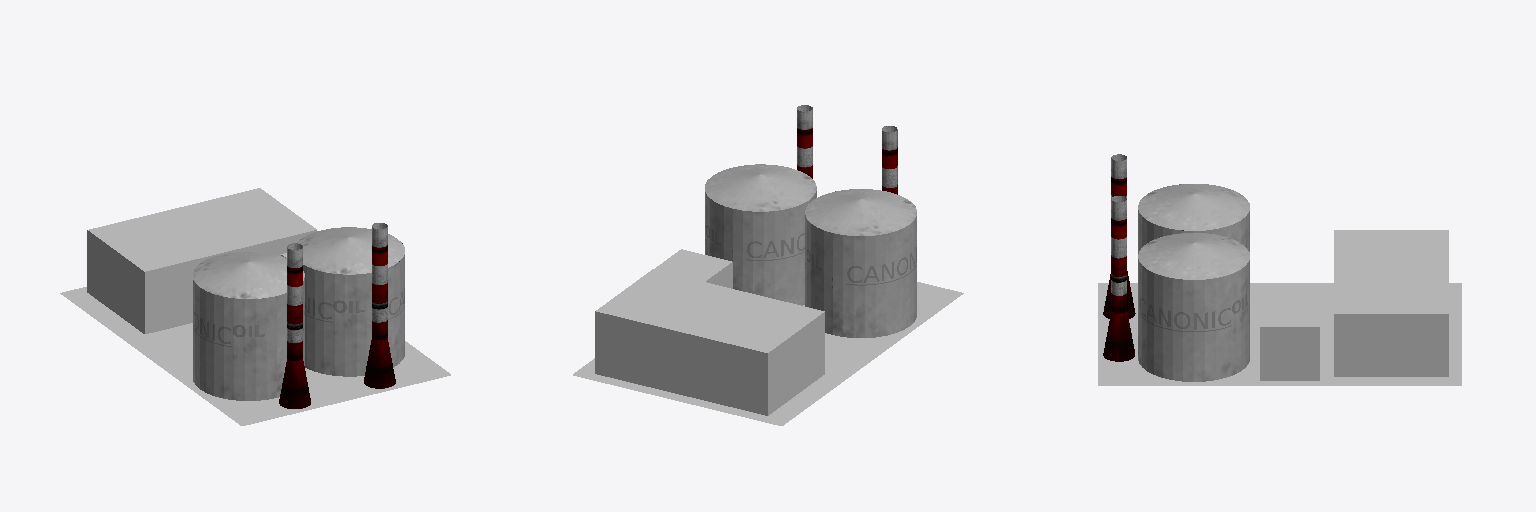
3 renders of one model, left to right at view 1: azimuth 30°, elevation 25°; view 2: azimuth 150°, elevation 25°; view 3: azimuth 270°, elevation 25°, orthographic.
Parts seen in each view (by area): view 1: Cube_Cube.001, Cylinder.000_Cylinder.004, Cylinder.003, Plane, Cylinder.001, Cylinder.002_Cylinder.005; view 2: Cube_Cube.001, Cylinder.000_Cylinder.004, Cylinder.003, Plane, Cube.002_Cube.003, Cylinder.001, Cylinder.002_Cylinder.005; view 3: Cube_Cube.001, Cylinder.003, Plane, Cylinder.000_Cylinder.004, Cube.002_Cube.003, Cylinder.001, Cylinder.002_Cylinder.005.
Boxes of the visible parts, box(x1,y1,x2,y2) form: Cube_Cube.001: box(87, 188, 316, 333); Cylinder.000_Cylinder.004: box(193, 252, 304, 400); Cylinder.003: box(297, 227, 404, 376); Plane: box(60, 287, 450, 425); Cylinder.001: box(364, 223, 395, 388); Cylinder.002_Cylinder.005: box(279, 243, 310, 408); Cube_Cube.001: box(595, 269, 824, 415); Cylinder.000_Cylinder.004: box(805, 189, 916, 337); Cylinder.003: box(705, 164, 816, 305); Plane: box(573, 282, 963, 425); Cube.002_Cube.003: box(653, 249, 732, 288); Cylinder.001: box(797, 105, 812, 178); Cylinder.002_Cylinder.005: box(882, 126, 897, 194); Cube_Cube.001: box(1334, 230, 1448, 376); Cylinder.003: box(1138, 233, 1249, 381); Plane: box(1098, 283, 1461, 385); Cylinder.000_Cylinder.004: box(1138, 184, 1249, 253); Cube.002_Cube.003: box(1260, 302, 1319, 380); Cylinder.001: box(1103, 196, 1134, 361); Cylinder.002_Cylinder.005: box(1103, 154, 1135, 318).
Size of the model in its own units: 2 by 1.42 by 3.
3 materials, 2 textured.